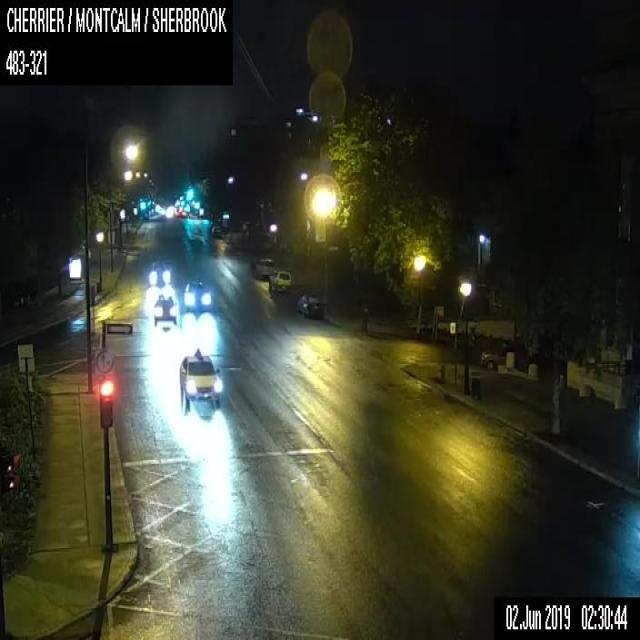pedestrian: (362, 302, 369, 331)
vehicle: (180, 348, 222, 408), (480, 341, 523, 368), (179, 276, 211, 310), (152, 291, 177, 326), (296, 291, 324, 318), (146, 259, 172, 288), (0, 287, 32, 306), (250, 256, 276, 279), (267, 267, 290, 292)
